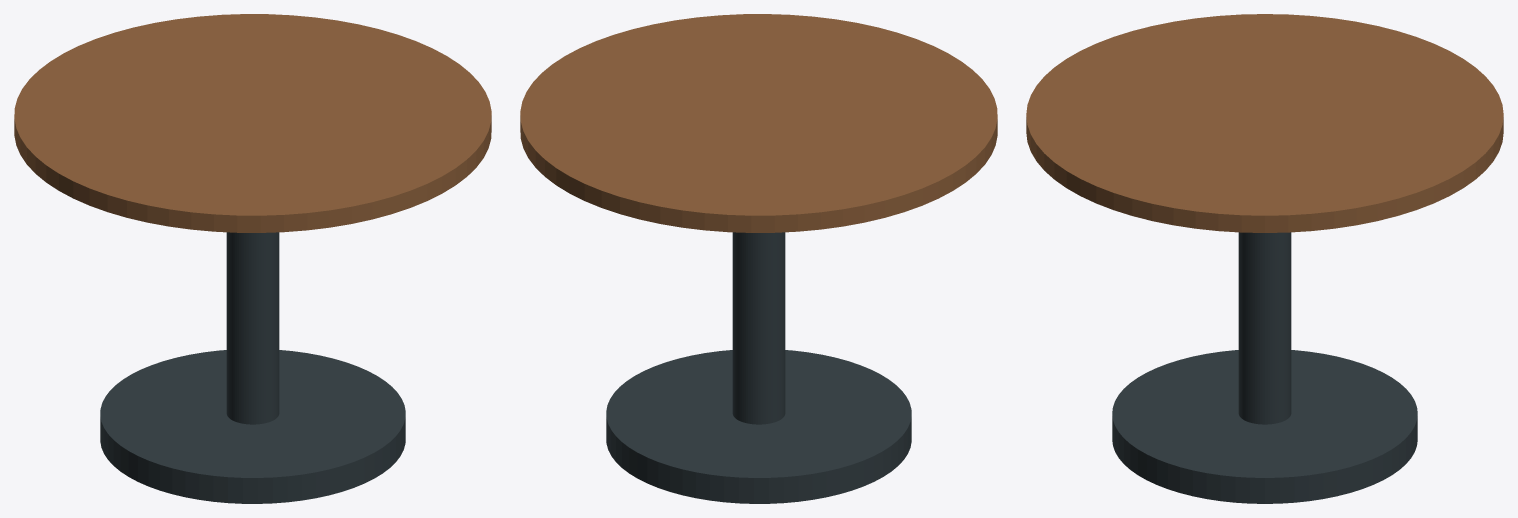
Rendered from round-dining-table.glb.
3 renders of one model, left to right at view 1: azimuth 30°, elevation 25°; view 2: azimuth 150°, elevation 25°; view 3: azimuth 270°, elevation 25°, orthographic.
Visible parts, largest first — view 1: Round_Top, Base, Pedestal; view 2: Round_Top, Base, Pedestal; view 3: Round_Top, Base, Pedestal.
Part boxes in pixels (bbox=[...]): Round_Top: bbox=[14, 14, 491, 232]; Base: bbox=[100, 350, 405, 503]; Pedestal: bbox=[226, 232, 279, 424]; Round_Top: bbox=[520, 14, 997, 232]; Base: bbox=[606, 350, 911, 503]; Pedestal: bbox=[732, 232, 785, 424]; Round_Top: bbox=[1026, 14, 1503, 232]; Base: bbox=[1112, 350, 1417, 503]; Pedestal: bbox=[1238, 232, 1291, 424].
Bounding box in the file's own units: 1 × 0.75 × 1.
